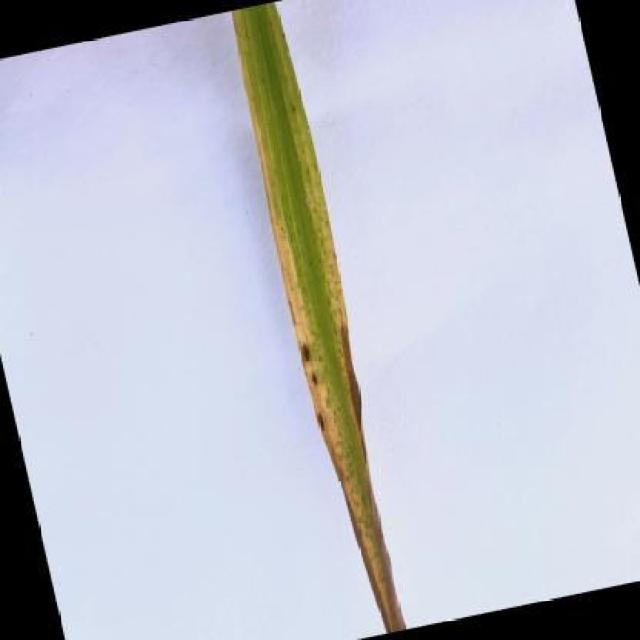Rice False Smut: (251, 52, 405, 631)
